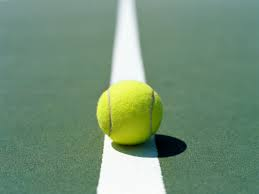tennis_ball: (96, 80, 164, 146)
